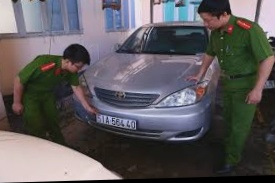Bien-so: (90, 116, 131, 136)
